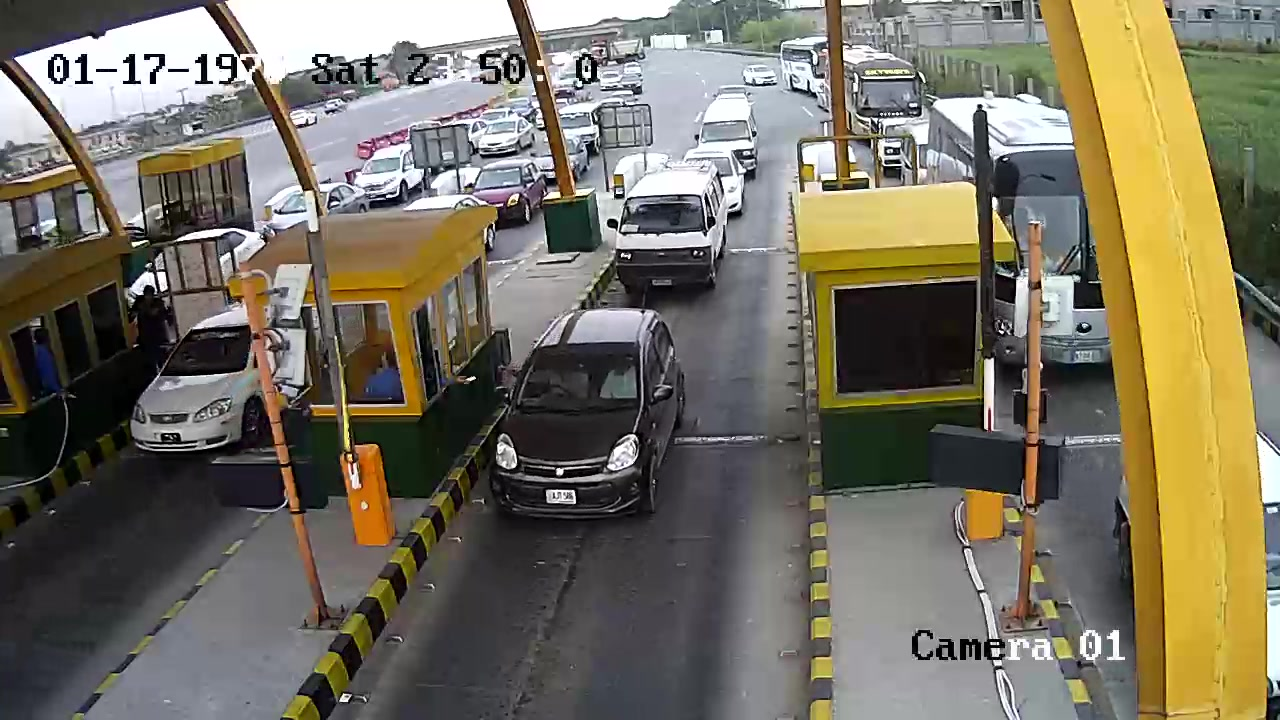F1: (482, 302, 698, 533)
